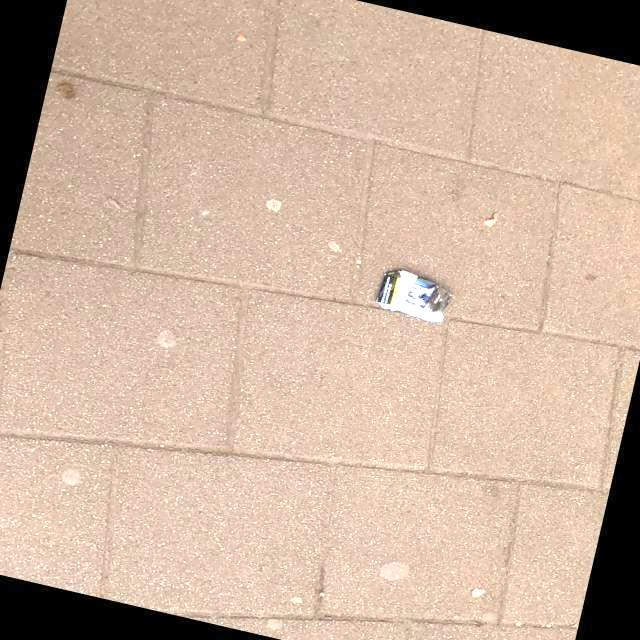Paper: (374, 268, 456, 326)
